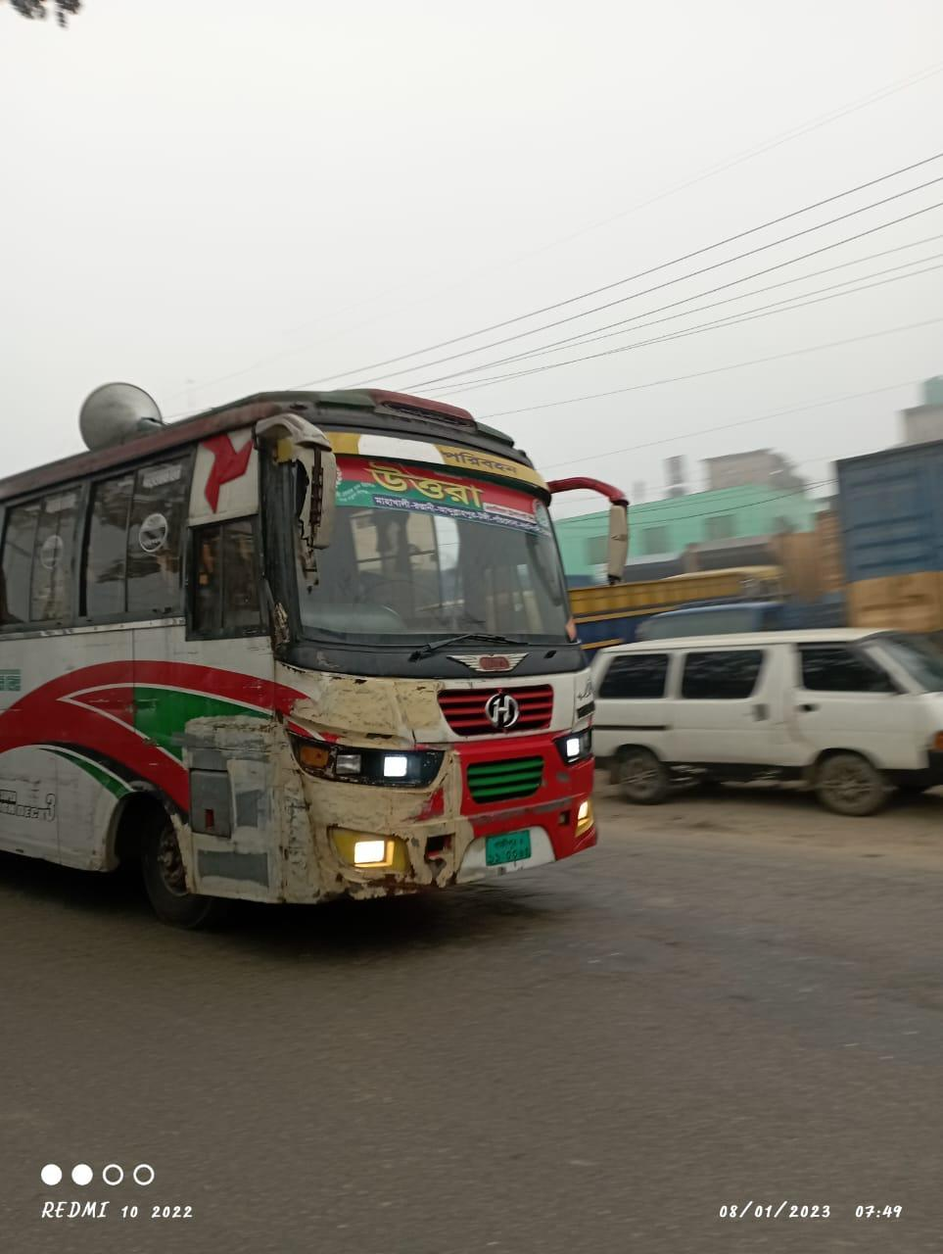Bus: (29, 385, 632, 940)
Car: (591, 630, 942, 815)
